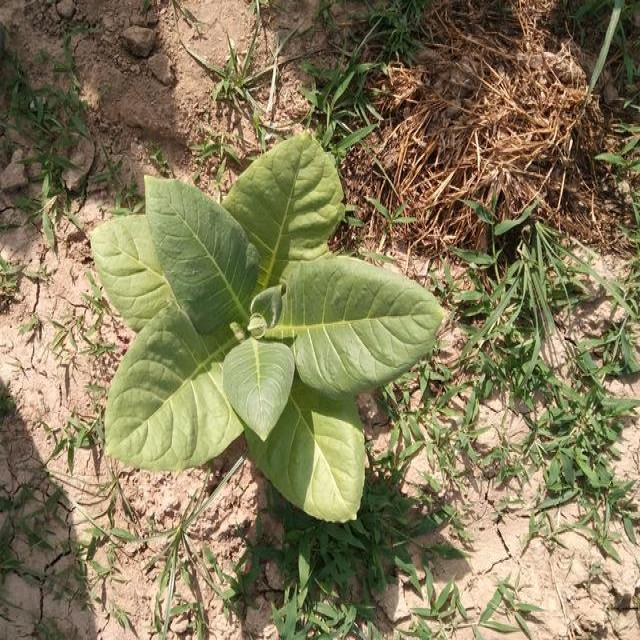crop: (89, 131, 448, 528)
